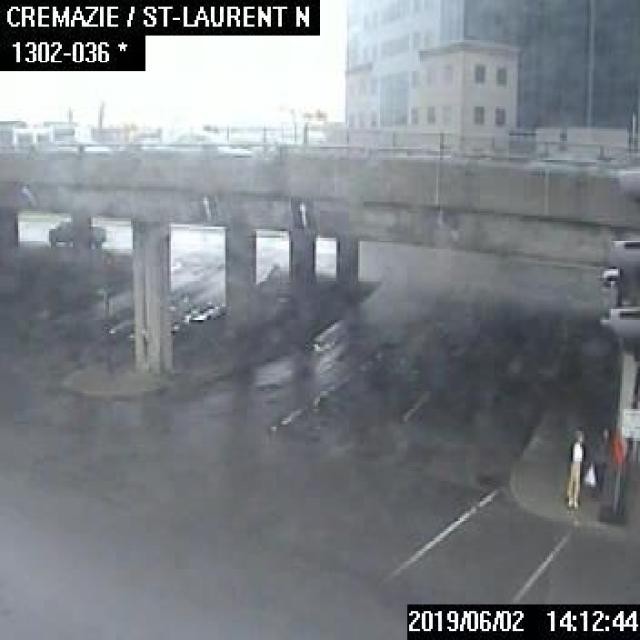construction: (600, 430, 629, 522)
pedestrian: (564, 422, 586, 511), (588, 420, 610, 509)
vehicle: (144, 128, 251, 156), (45, 216, 102, 244), (32, 134, 110, 154)
